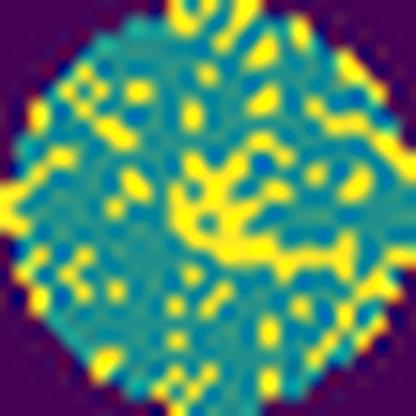Center: (168, 131, 357, 285)
